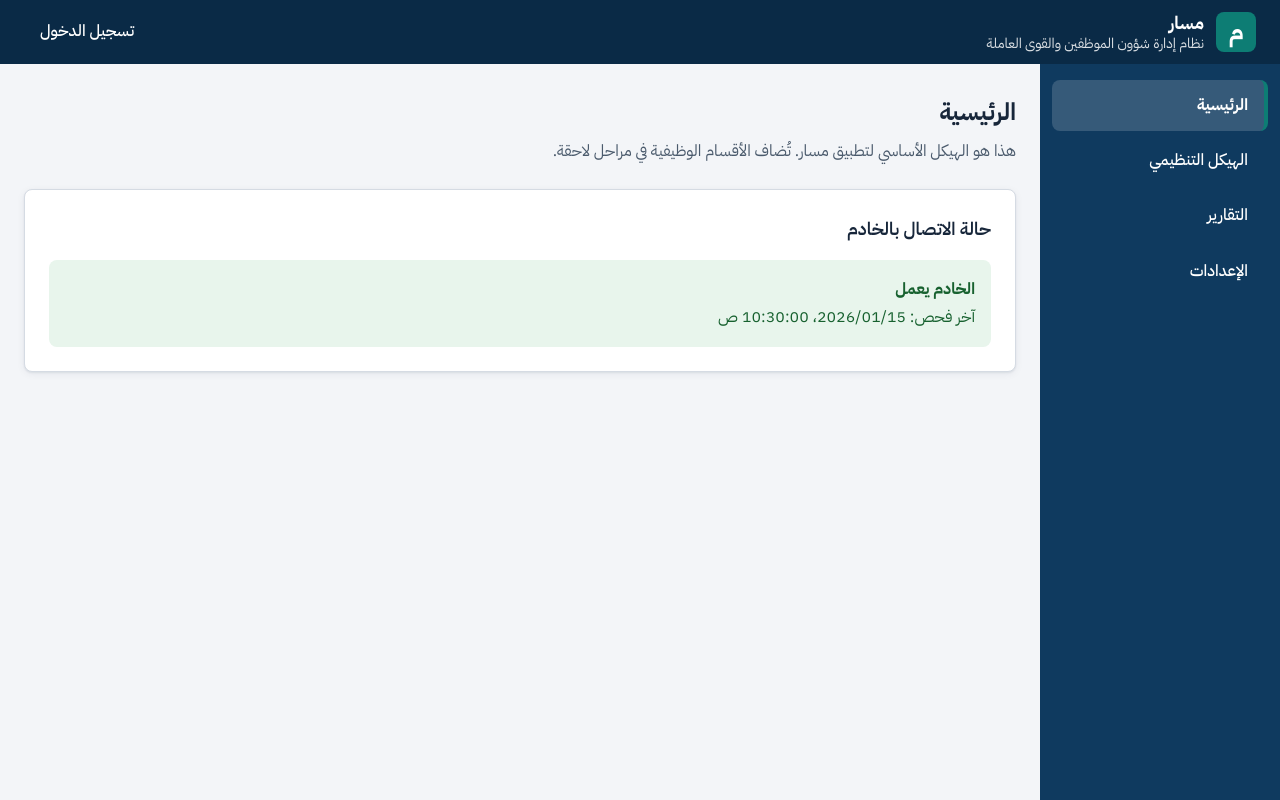
Test: Masar application shell › navigates to a placeholder area that shows no functionality
The width and height of the screenshot is (1280, 800).
Click the link "الهيكل التنظيمي" at (1199,160), box [1149,148,1248,172]
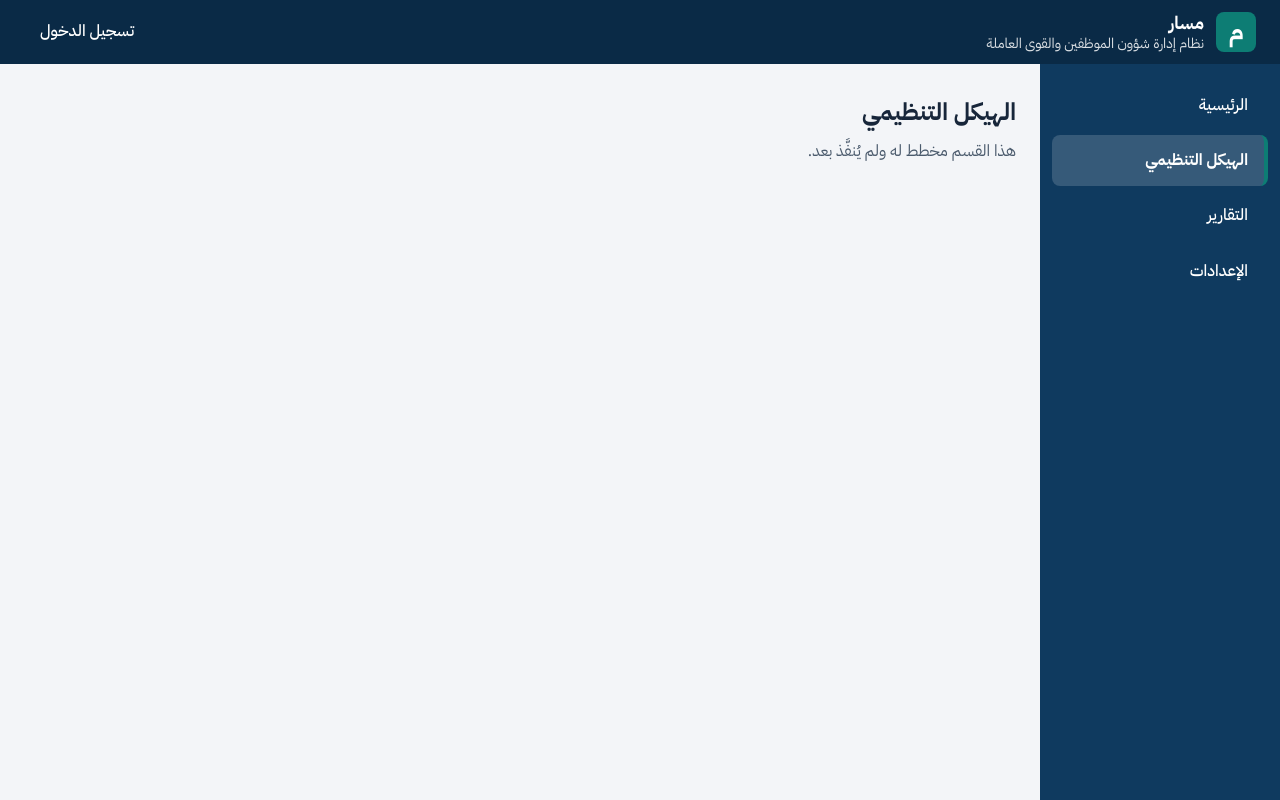
Expected: the heading "الهيكل التنظيمي" is shown, [862,94,1016,130]
Expected: the text "هذا القسم مخطط له ولم يُنفَّذ بعد." is shown, [808,139,1016,163]
